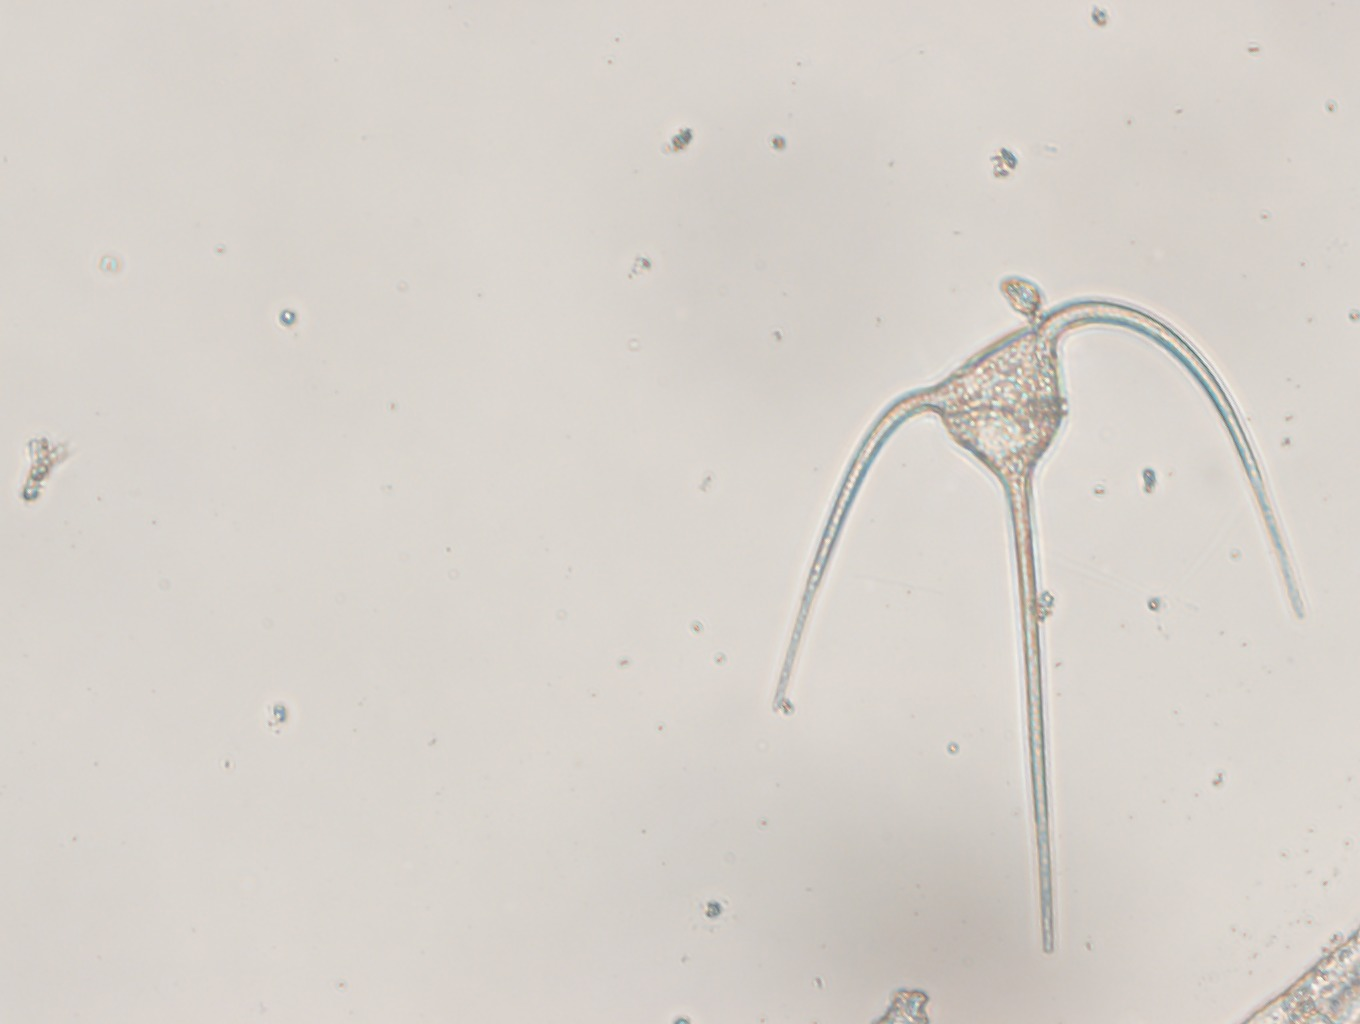ceratium trichoceros: (762, 293, 1312, 963)
